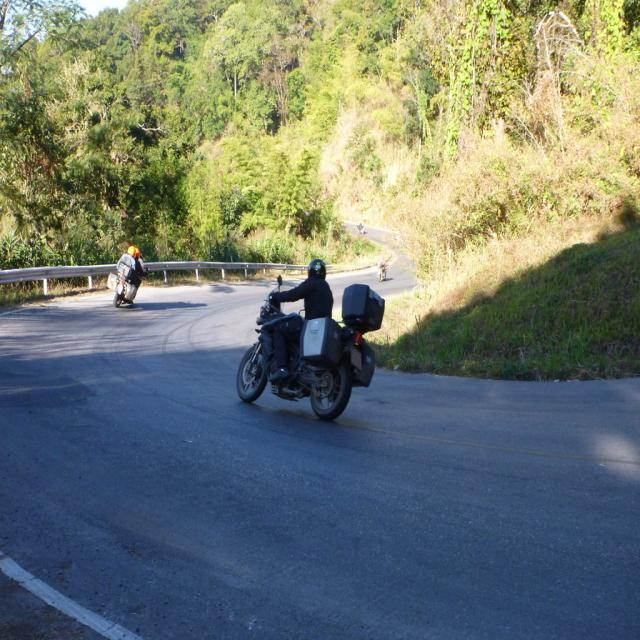Motorbikes: (241, 264, 388, 431), (104, 251, 144, 307)
